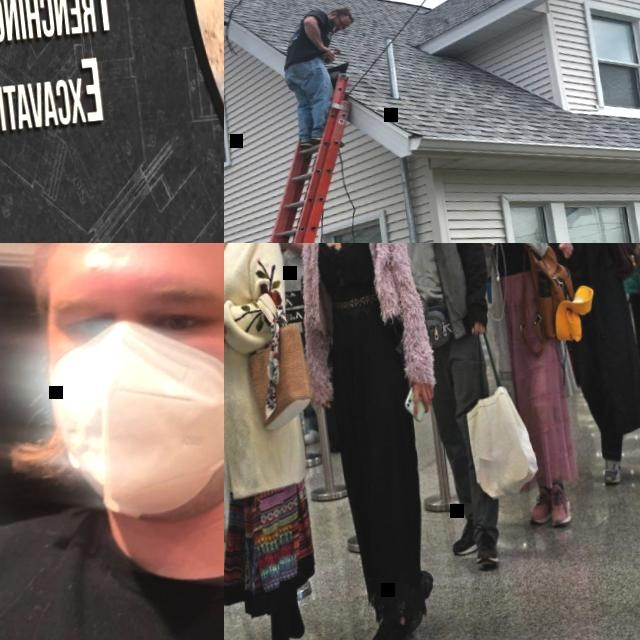NO-Hardhat: (335, 7, 354, 24)
NO-Mask: (45, 313, 224, 527)
NO-Safety Vest: (0, 468, 224, 640), (224, 243, 286, 393), (307, 243, 397, 342), (382, 243, 458, 322), (548, 243, 621, 292), (277, 9, 334, 66), (266, 243, 309, 289), (487, 243, 540, 273)
Person: (0, 243, 224, 640), (289, 243, 463, 640), (367, 243, 518, 582), (224, 243, 328, 640), (465, 243, 579, 525), (536, 243, 640, 490), (275, 4, 368, 152), (601, 243, 640, 452), (262, 243, 309, 291)
